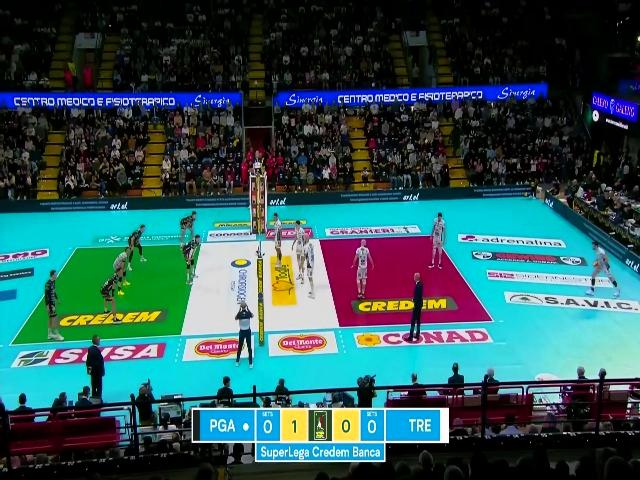volleyball court: (11, 234, 492, 348)
